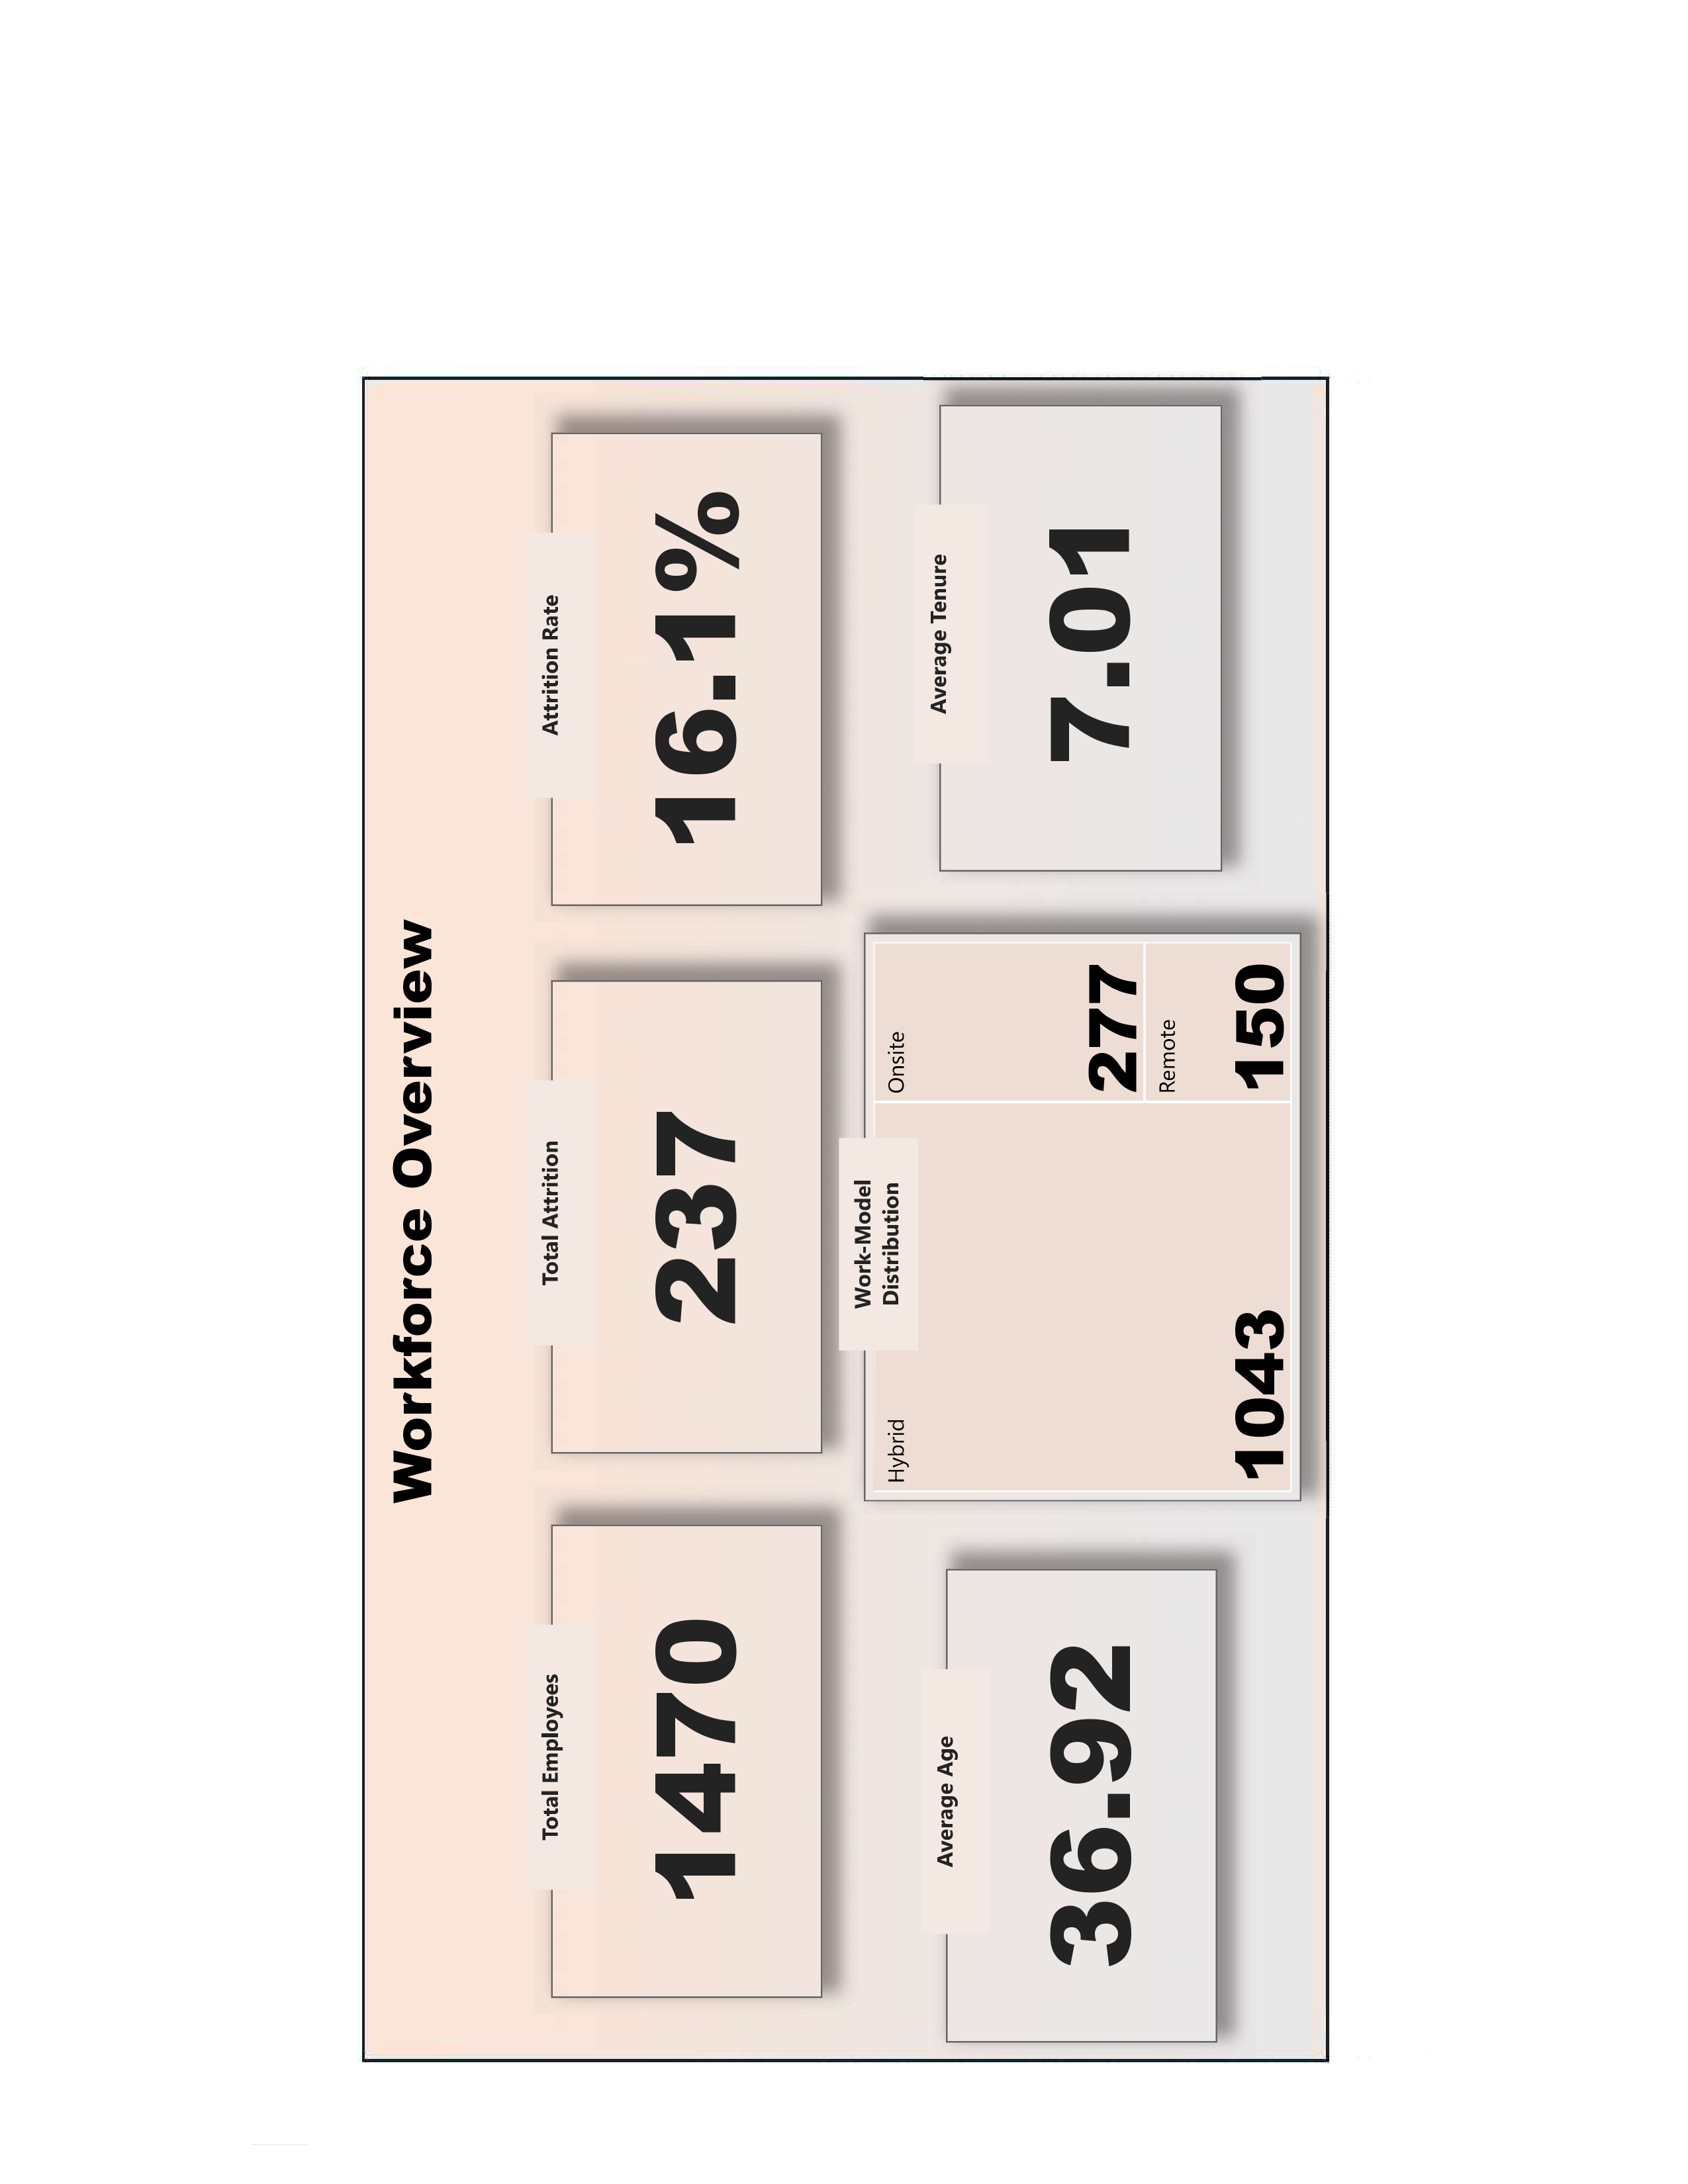

The page's visual inventory and layout, read from the dashboard file:
{"tool":"powerbi","page":{"name":"Page 1","canvas":[1280,720],"ordinal":0},"visuals":[{"type":"textbox","box":[300.5,69.1,533,55.4],"z":0},{"type":"card","title":"Total Employees","fields":{"Values":["Count(HR_Analytics.EmpID)"]},"box":[88.5,181.9,287.9,165.3],"z":0,"group":"g1"},{"type":"card","title":"Total Employees","fields":{"Values":["Sum(HR_Analytics.AttritionCount)"]},"box":[420.2,181.9,287.9,165.3],"z":0,"group":"g2"},{"type":"card","title":"Total Employees","fields":{"Values":["HR_Analytics.AttritionRate"]},"box":[752.8,181.9,287.9,165.3],"z":0,"group":"g3"},{"type":"treemap","title":"Total Employees","fields":{"Group":["HR_Analytics.WorkModel"],"Values":["Sum(HR_Analytics.EmployeeCount)"]},"box":[391,372.1,346.3,266],"z":0,"group":"g4"},{"type":"card","title":"Total Employees","fields":{"Values":["Avg(HR_Analytics.YearsAtCompany)"]},"box":[774,417.7,284,172.2],"z":0,"group":"g5"},{"type":"card","title":"Total Employees","fields":{"Values":["Avg(HR_Analytics.Age)"]},"box":[62.2,421.2,287.9,165.3],"z":0,"group":"g6"},{"type":"group","id":"g1","title":"Group 1","box":[88.5,167.3,287.9,179.9],"z":2000},{"type":"group","id":"g2","title":"Group 1","box":[420.2,167.3,288.9,179.9],"z":3000},{"type":"group","id":"g3","title":"Group 1","box":[752.8,167.3,287.9,179.9],"z":4000},{"type":"group","id":"g4","title":"Group 1","box":[391,357,346.3,281.1],"z":5000},{"type":"group","id":"g5","title":"Group 1","box":[774,403.1,284,186.7],"z":6000},{"type":"group","id":"g6","title":"Group 1","box":[62.2,406.6,287.9,179.9],"z":7000},{"type":"textbox","box":[154.6,167.3,160.5,41.8],"z":8000,"group":"g1"},{"type":"textbox","box":[486.3,167.3,160.5,41.8],"z":8000,"group":"g2"},{"type":"textbox","box":[818.9,167.3,160.5,41.8],"z":8000,"group":"g3"},{"type":"textbox","box":[483.1,357,128.6,47.7],"z":8000,"group":"g4"},{"type":"textbox","box":[840.2,403.1,156.6,44.7],"z":8000,"group":"g5"},{"type":"textbox","box":[128.3,406.6,160.5,41.8],"z":8000,"group":"g6"}]}

Visuals, with their boxes on the page's 1280x720 design canvas (x1, y1, x2, y2). These are canvas units, not pixel positions in the 1688x2184 screenshot, which may show the page scaled, cropped or inside an application window:
textbox: region(300, 69, 834, 124)
"Total Employees" card: region(88, 182, 376, 347)
"Total Employees" card: region(420, 182, 708, 347)
"Total Employees" card: region(753, 182, 1041, 347)
"Total Employees" treemap: region(391, 372, 737, 638)
"Total Employees" card: region(774, 418, 1058, 590)
"Total Employees" card: region(62, 421, 350, 586)
"Group 1" group: region(88, 167, 376, 347)
"Group 1" group: region(420, 167, 709, 347)
"Group 1" group: region(753, 167, 1041, 347)
"Group 1" group: region(391, 357, 737, 638)
"Group 1" group: region(774, 403, 1058, 590)
"Group 1" group: region(62, 407, 350, 586)
textbox: region(155, 167, 315, 209)
textbox: region(486, 167, 647, 209)
textbox: region(819, 167, 979, 209)
textbox: region(483, 357, 612, 405)
textbox: region(840, 403, 997, 448)
textbox: region(128, 407, 289, 448)
